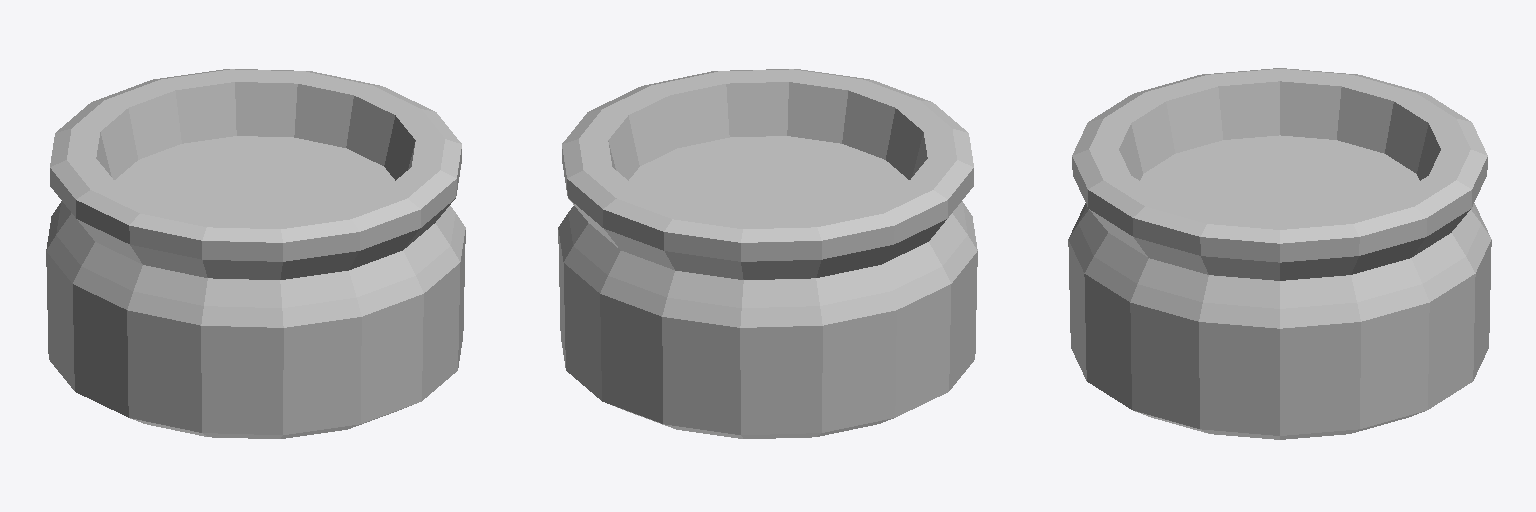
The model's file is christmas_tree_base.obj.
The picture shows the model from 3 angles: view 1: azimuth 30°, elevation 25°; view 2: azimuth 150°, elevation 25°; view 3: azimuth 270°, elevation 25°; orthographic projection.
Parts seen in each view (by area): view 1: christmas_tree_base; view 2: christmas_tree_base; view 3: christmas_tree_base.
Boxes of the visible parts, x1=… form: christmas_tree_base: x1=46, y1=69, x2=465, y2=438; christmas_tree_base: x1=558, y1=69, x2=977, y2=438; christmas_tree_base: x1=1068, y1=68, x2=1491, y2=439.
Size of the model in its own units: 0.8993 by 0.4998 by 0.8993.